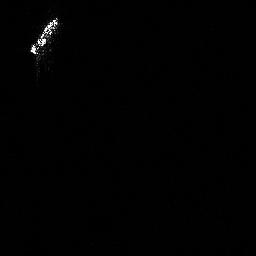ship: (25, 13, 63, 60)
